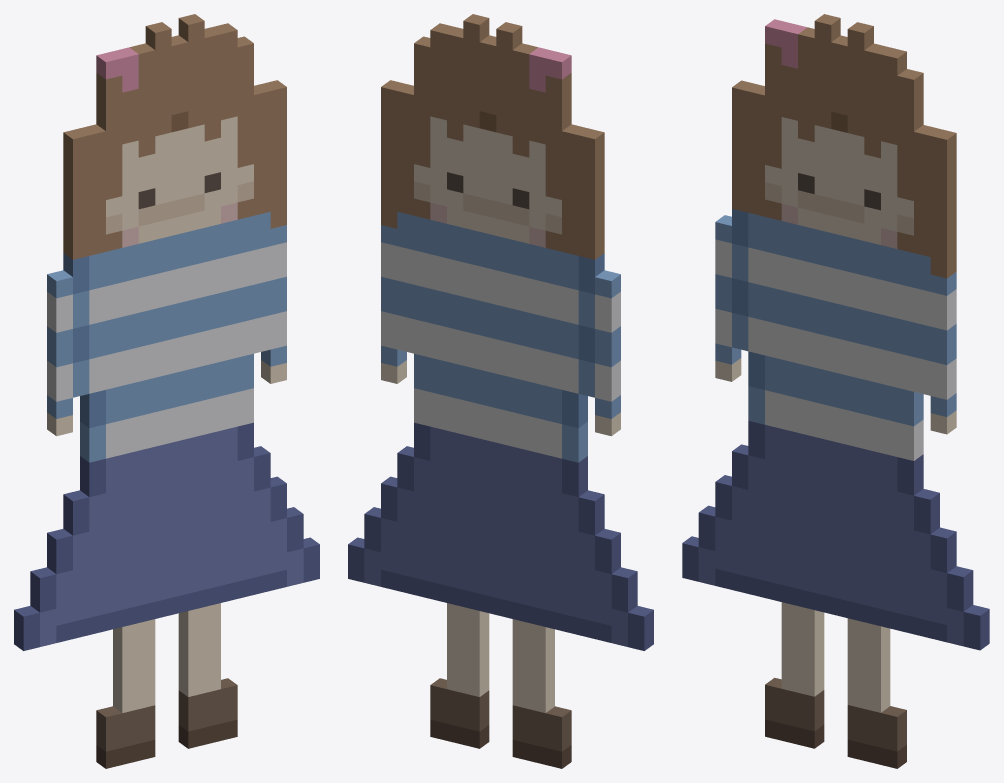
File: claudia_3d.glb
The picture shows the model from 3 angles, left to right: view 1: azimuth 30°, elevation 25°; view 2: azimuth 150°, elevation 25°; view 3: azimuth 330°, elevation 25°; orthographic projection.
Parts seen in each view (by area): view 1: sprite_mesh; view 2: sprite_mesh; view 3: sprite_mesh.
Part boxes in pixels (left/top/right/bottom): sprite_mesh: left=14, top=14, right=319, bottom=768; sprite_mesh: left=348, top=14, right=653, bottom=768; sprite_mesh: left=682, top=14, right=989, bottom=768.
Size of the model in its own units: 18 by 42 by 1.
